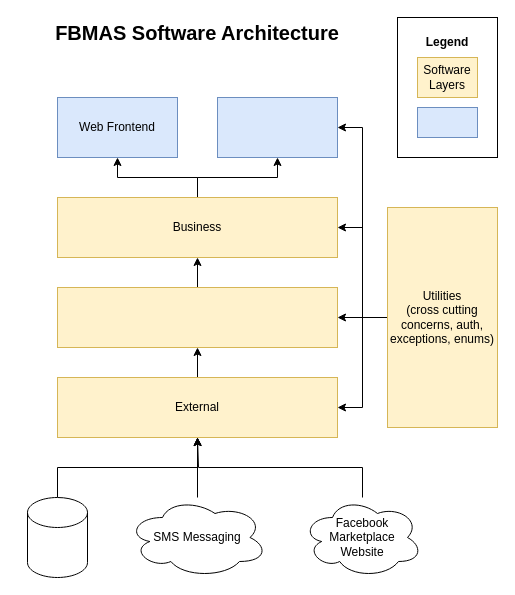
Some shapes in this 515 by 595 pixel diagram are drawn without their labels. Each missing label, with the centre of its shape:
Apps: pixel 447 122
DB: pixel 57 537
Runner: pixel 277 127
Service: pixel 197 317
